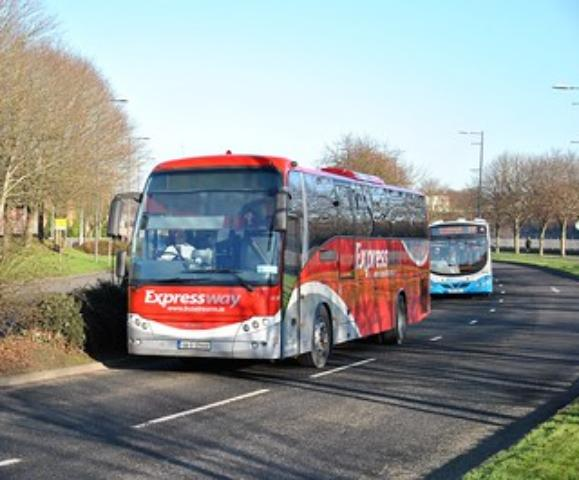bus: (125, 154, 431, 370), (429, 219, 494, 297)
